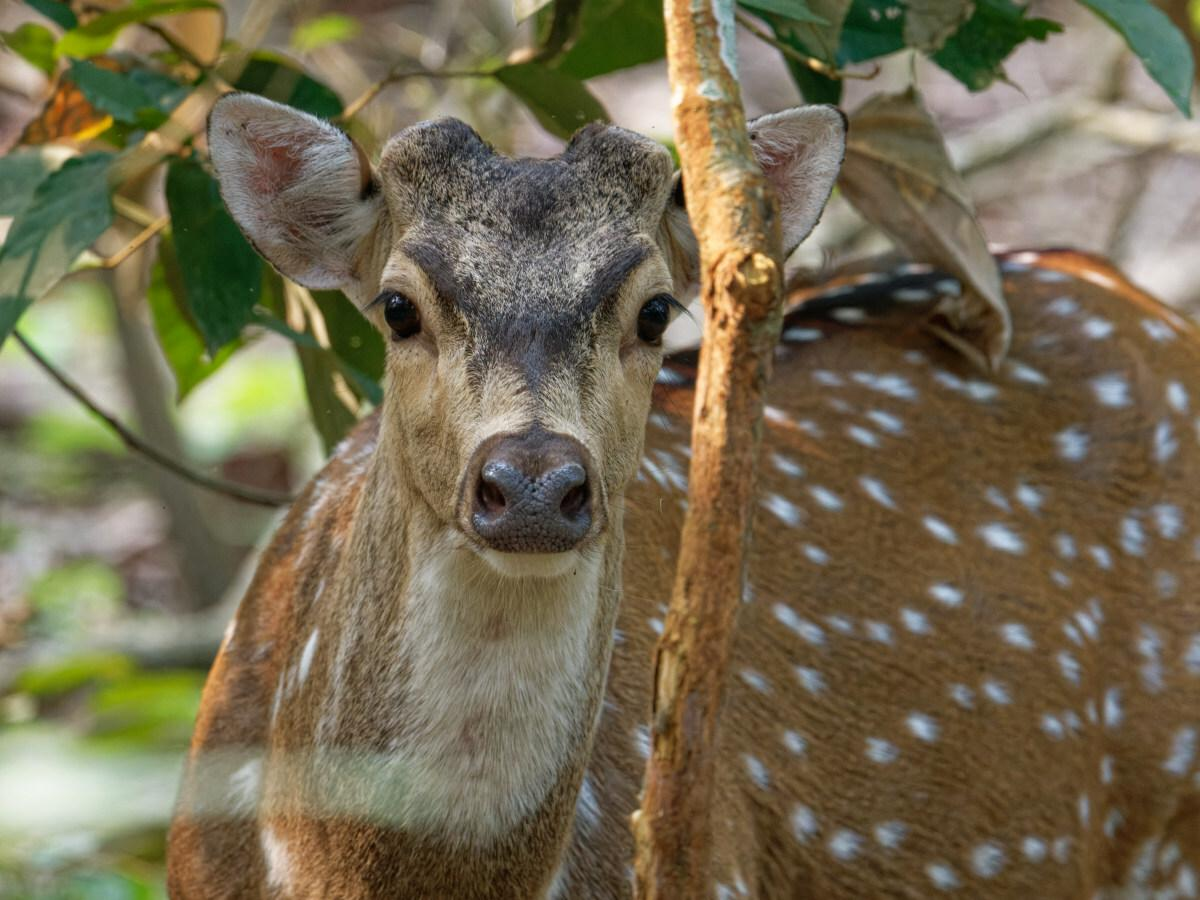Deer: (170, 93, 1199, 899)
